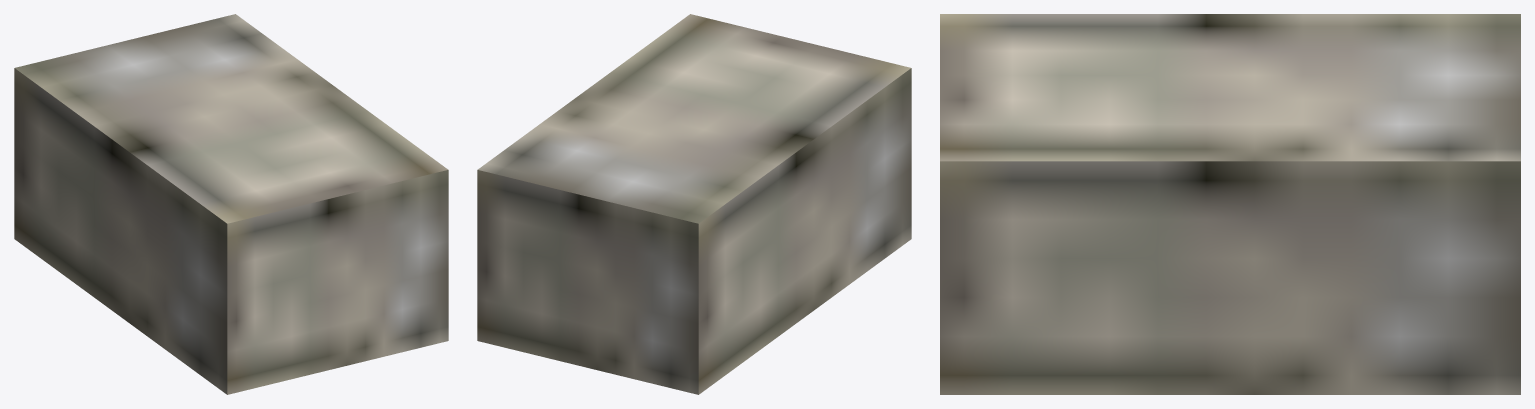
Rendered from building_construction_g_small_brick.glb.
3 views of the same model, side by side, from view 1: azimuth 30°, elevation 25°; view 2: azimuth 150°, elevation 25°; view 3: azimuth 270°, elevation 25° (orthographic). The views are drawn at different scales.
Visible parts, largest first — view 1: MeshRoot; view 2: MeshRoot; view 3: MeshRoot.
Part boxes in pixels (x1,y1,x2,y2): MeshRoot: (14, 14, 448, 394); MeshRoot: (477, 14, 911, 394); MeshRoot: (940, 14, 1520, 394).
Bounding box in the file's own units: 0.3076 × 0.2275 × 0.5127.
Materials: 1 (1 with a texture image).
